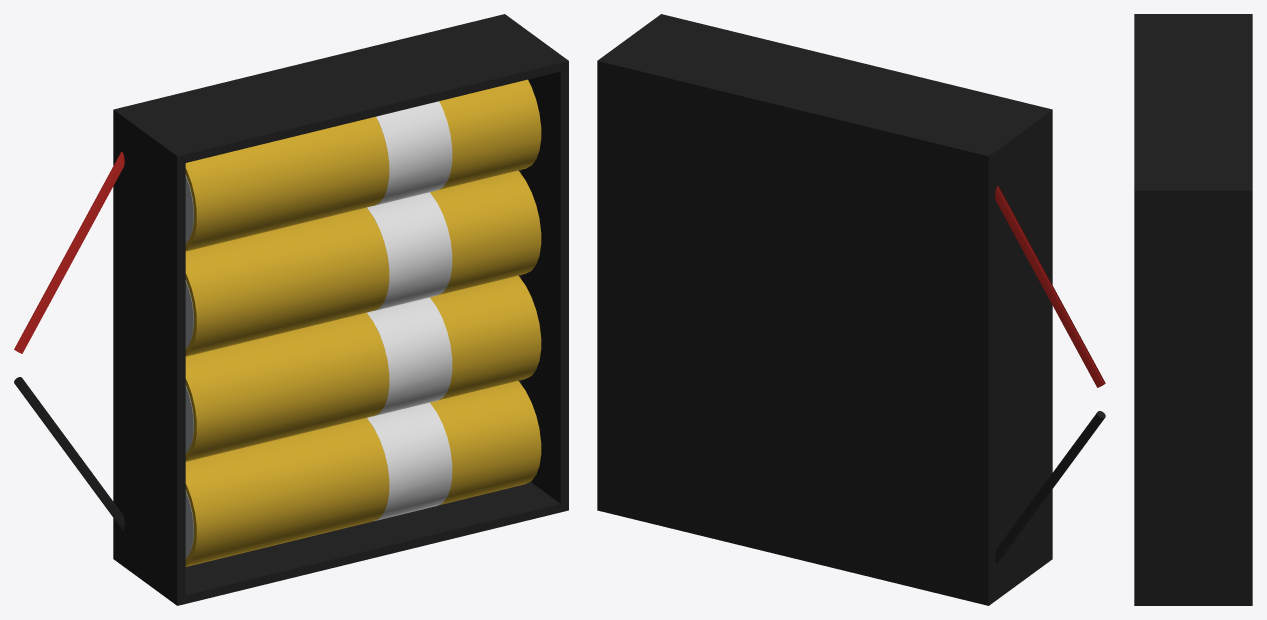
File: battery-aa-4x.glb
3 views of the same model, side by side, from view 1: azimuth 30°, elevation 25°; view 2: azimuth 150°, elevation 25°; view 3: azimuth 270°, elevation 25° (orthographic). The views are drawn at different scales.
Visible parts, largest first — view 1: body, cell_3, cell_2, cell_1, cell_4, cell_3_band, cell_2_band, cell_1_band, cell_4_band, lead_red, lead_black; view 2: body, lead_red, lead_black; view 3: body.
Part boxes in pixels (<box>): body: <box>113,14,568,605</box>; cell_3: <box>185,170,541,356</box>; cell_2: <box>185,275,541,461</box>; cell_1: <box>185,381,541,566</box>; cell_4: <box>185,79,541,251</box>; cell_3_band: <box>366,192,452,310</box>; cell_2_band: <box>367,297,452,416</box>; cell_1_band: <box>367,402,452,521</box>; cell_4_band: <box>374,101,452,205</box>; lead_red: <box>14,152,124,353</box>; lead_black: <box>14,377,124,529</box>; body: <box>597,14,1052,605</box>; lead_red: <box>995,186,1105,387</box>; lead_black: <box>995,411,1105,563</box>; body: <box>1134,14,1252,605</box>.
Size of the model in its own units: 72 by 62 by 16.
